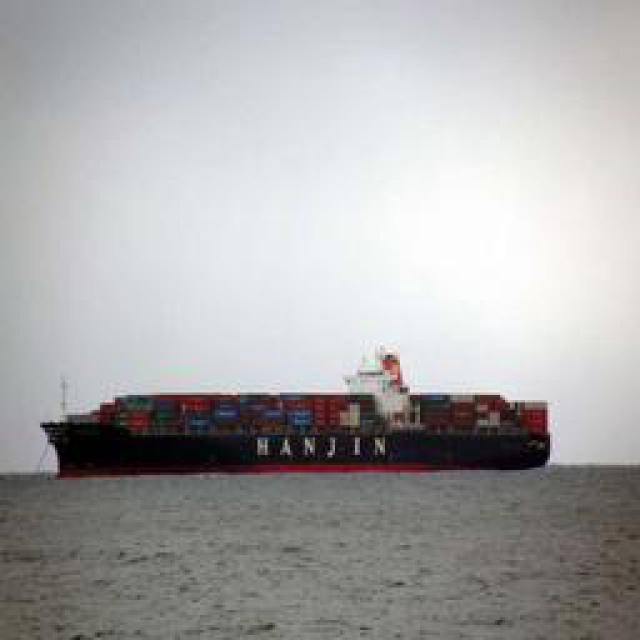Ship: (44, 374, 544, 474)
